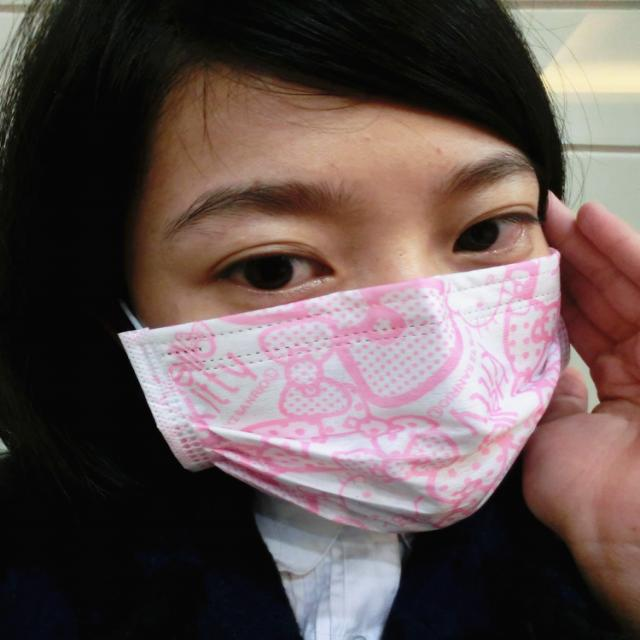mask: (130, 106, 563, 534)
